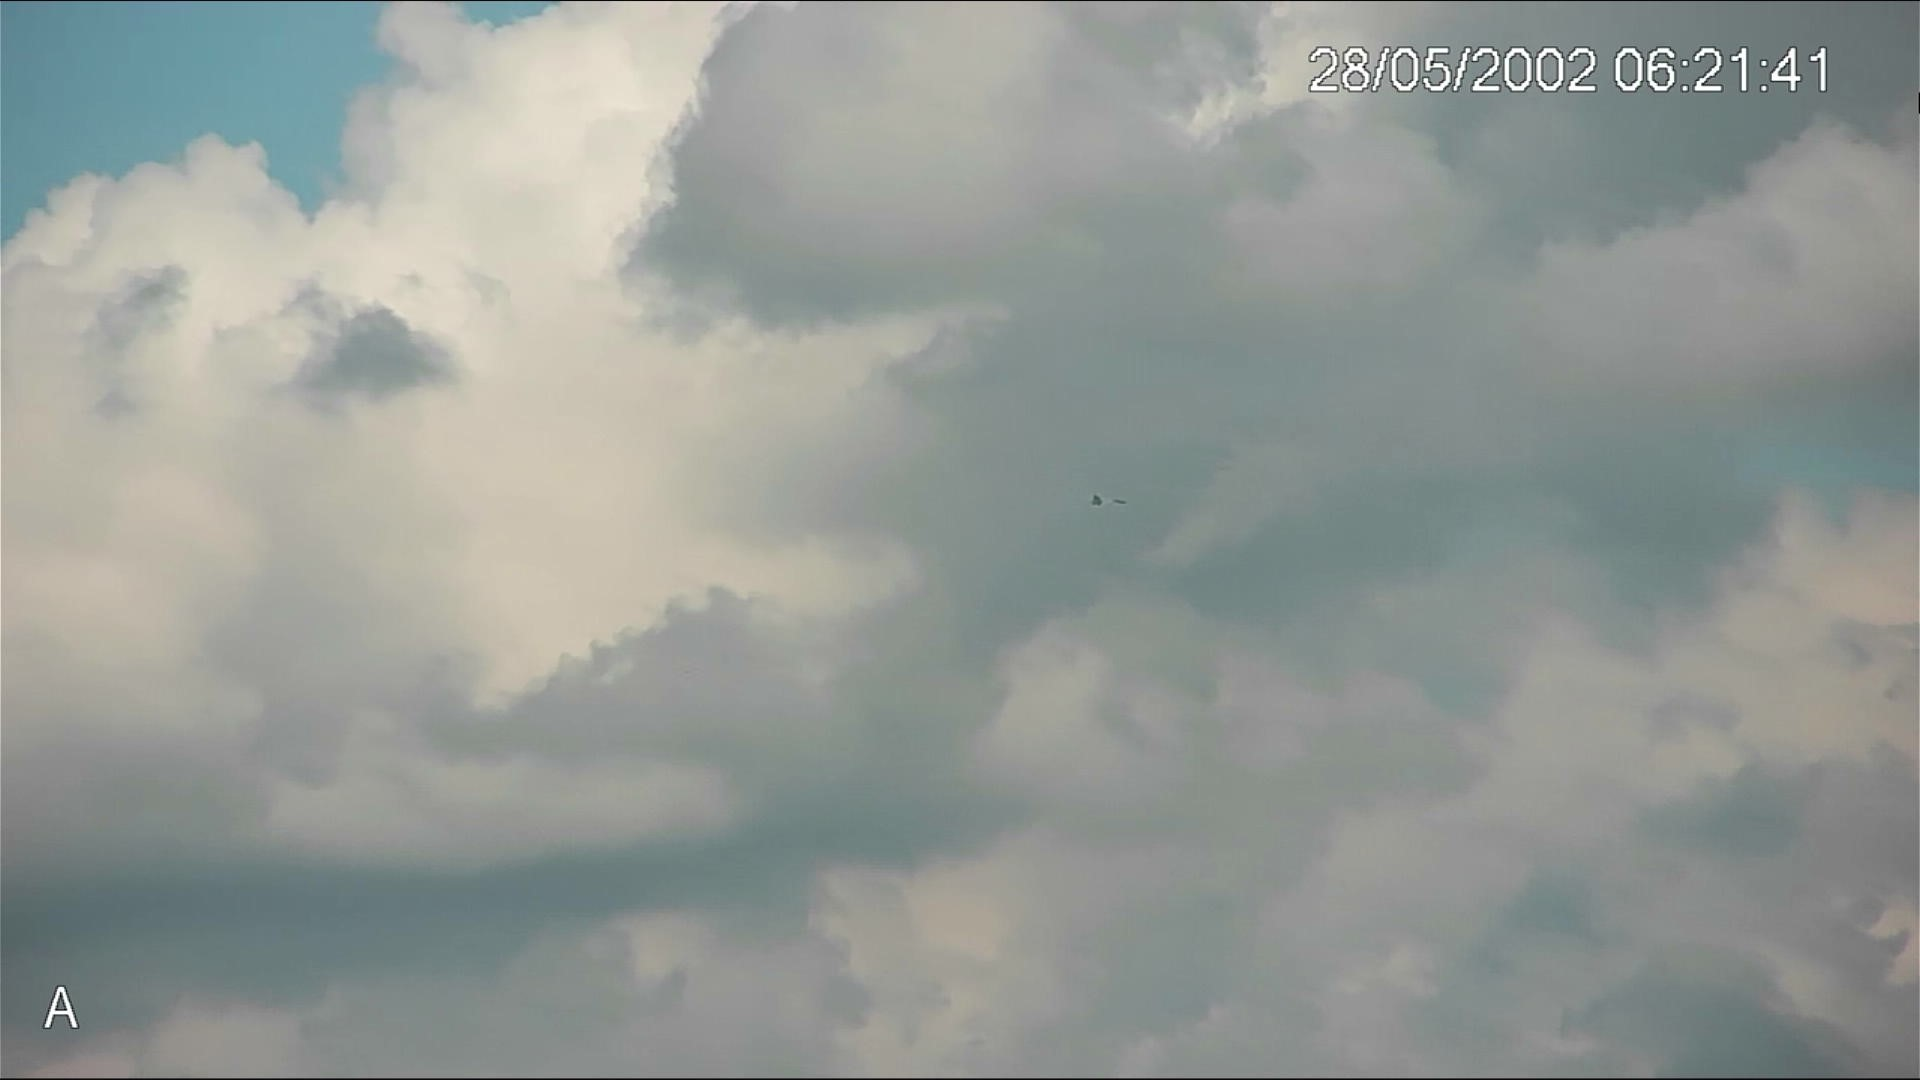SU_30: (1089, 489, 1127, 512)
